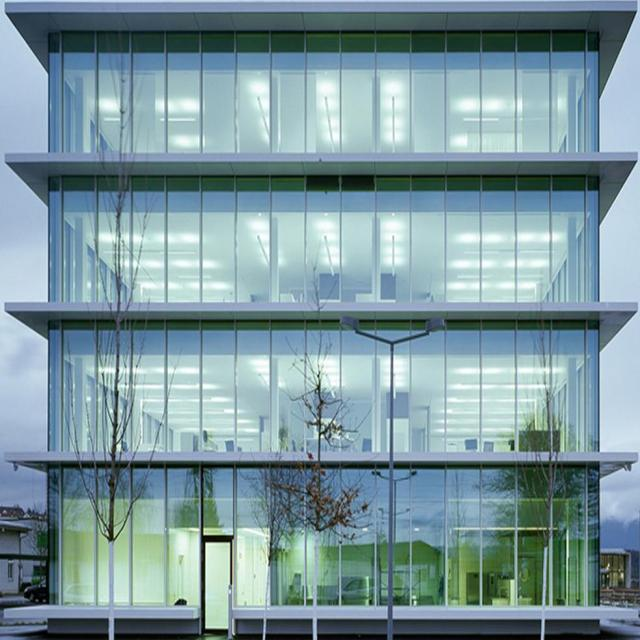door: (199, 534, 234, 635)
window: (47, 467, 601, 604), (49, 31, 600, 151), (49, 180, 600, 300), (47, 326, 598, 446)
